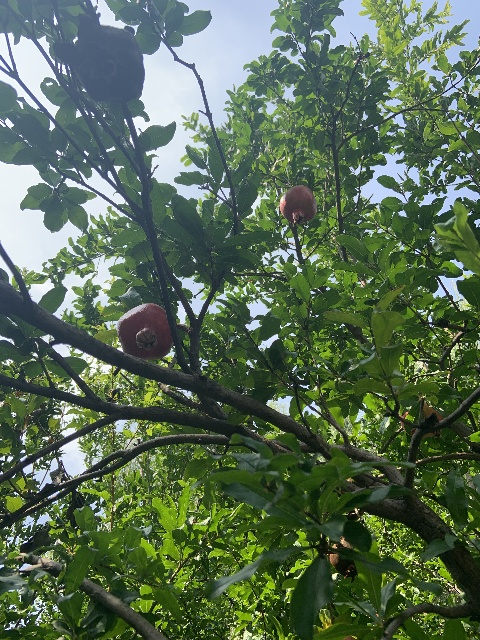ripe: (116, 303, 172, 360), (399, 401, 443, 437), (279, 185, 317, 224)
